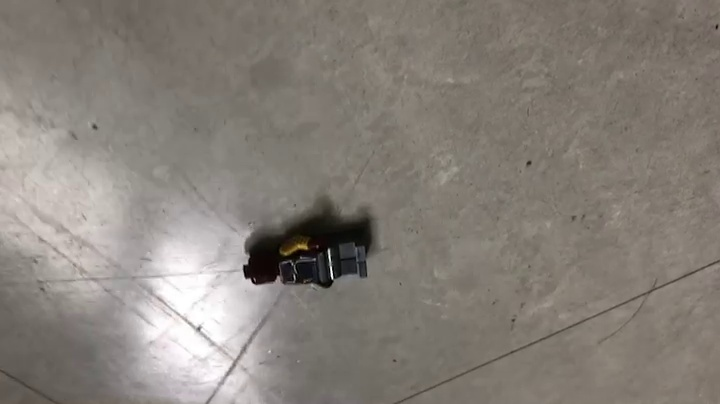people: (242, 207, 368, 291)
